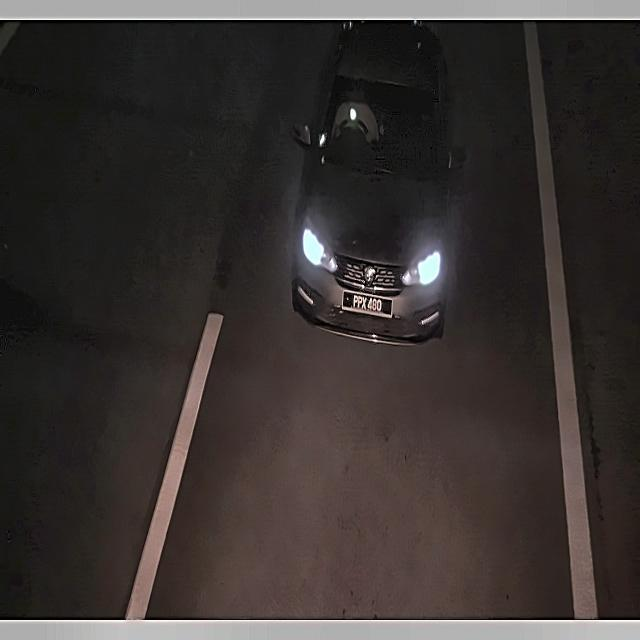car: (340, 283, 396, 321)
